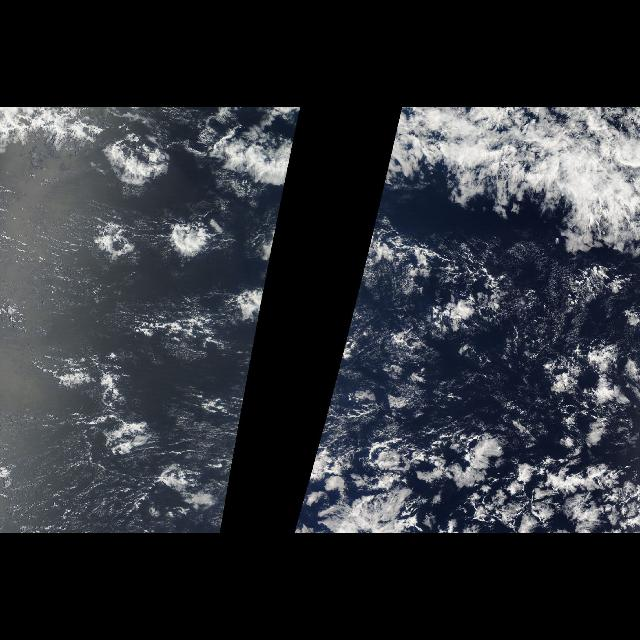Flower: (425, 333, 635, 533), (74, 132, 224, 278)
Gravel: (316, 350, 638, 512)
Sugar: (0, 169, 282, 533)
